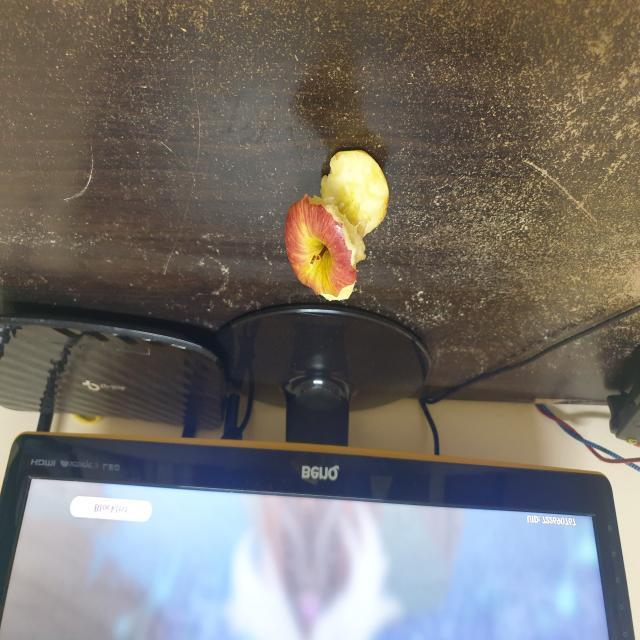apple: (279, 134, 399, 309)
